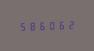eight: (27, 20, 36, 31)
five: (17, 21, 26, 31)
six: (58, 19, 67, 30), (38, 20, 47, 30)
two: (68, 19, 77, 29)
zero: (48, 19, 57, 30)
